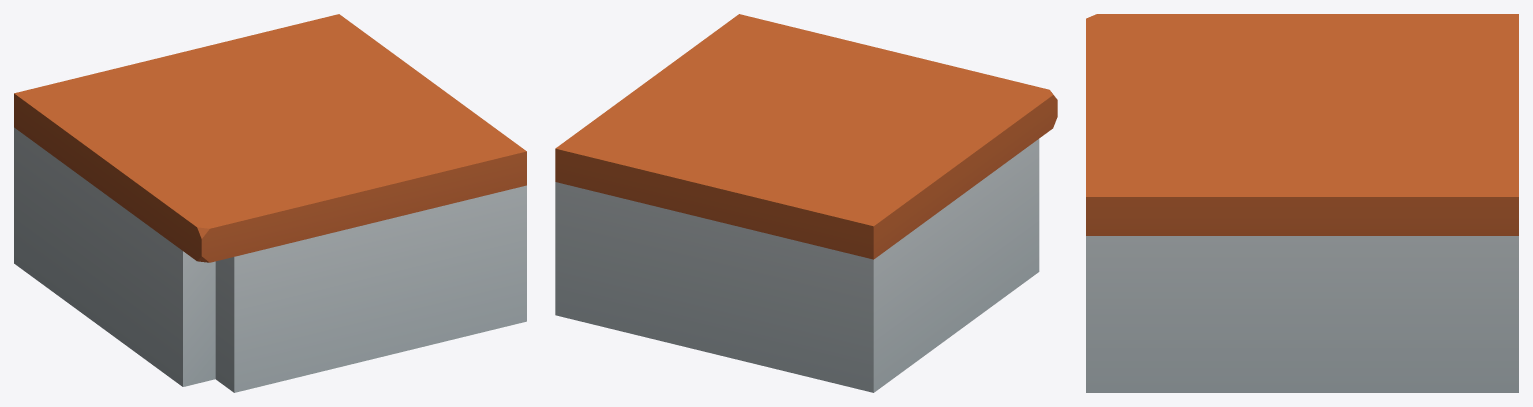
Rendered from kitchencounter_innercorner.glb.
The picture shows the model from 3 angles, left to right: view 1: azimuth 30°, elevation 25°; view 2: azimuth 150°, elevation 25°; view 3: azimuth 270°, elevation 25°; orthographic projection. The views are drawn at different scales.
Parts seen in each view (by area): view 1: kitchencounter_innercorner; view 2: kitchencounter_innercorner; view 3: kitchencounter_innercorner.
Boxes of the visible parts, box(x1,y1,x2,y2) form: kitchencounter_innercorner: box(14, 14, 526, 392); kitchencounter_innercorner: box(555, 14, 1057, 392); kitchencounter_innercorner: box(1086, 14, 1518, 392).
Size of the model in its own units: 2 by 1 by 2.
Materials: 1 (1 with a texture image).
